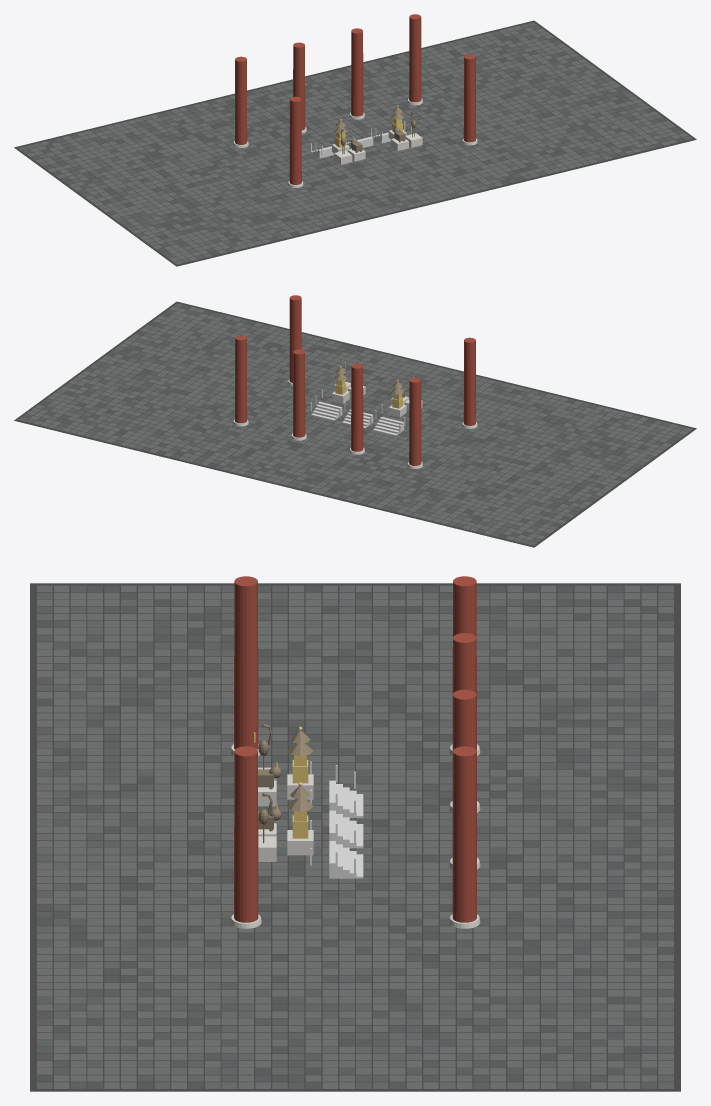
The model's file is qianqing-r29.glb.
The picture shows the model from 3 angles, top to bottom: view 1: azimuth 30°, elevation 25°; view 2: azimuth 150°, elevation 25°; view 3: azimuth 270°, elevation 25°; orthographic projection. The views are drawn at different scales.
Visible parts, largest first — view 1: floor_tiles, floor_base, merged_red_lacquer, merged_white_marble, merged_bronze; view 2: floor_tiles, floor_base, merged_red_lacquer, merged_white_marble; view 3: floor_tiles, floor_base, merged_red_lacquer, merged_bronze, merged_white_marble, merged_gold_lacquer.
Boxes of the visible parts, box(x1,y1,x2,y2) form: floor_tiles: box(18, 22, 692, 264); floor_base: box(14, 20, 696, 266); merged_red_lacquer: box(235, 14, 475, 184); merged_white_marble: box(332, 130, 422, 164); merged_bronze: box(334, 107, 416, 154); floor_tiles: box(18, 303, 692, 545); floor_base: box(14, 301, 696, 547); merged_red_lacquer: box(235, 295, 475, 465); merged_white_marble: box(332, 381, 422, 417); floor_tiles: box(37, 585, 673, 1088); floor_base: box(30, 583, 680, 1091); merged_red_lacquer: box(234, 576, 476, 922); merged_bronze: box(258, 723, 313, 843); merged_white_marble: box(258, 767, 313, 861); merged_gold_lacquer: box(253, 726, 308, 838).
Bounding box in the file's own units: 45.8 × 7.24 × 24.8.
